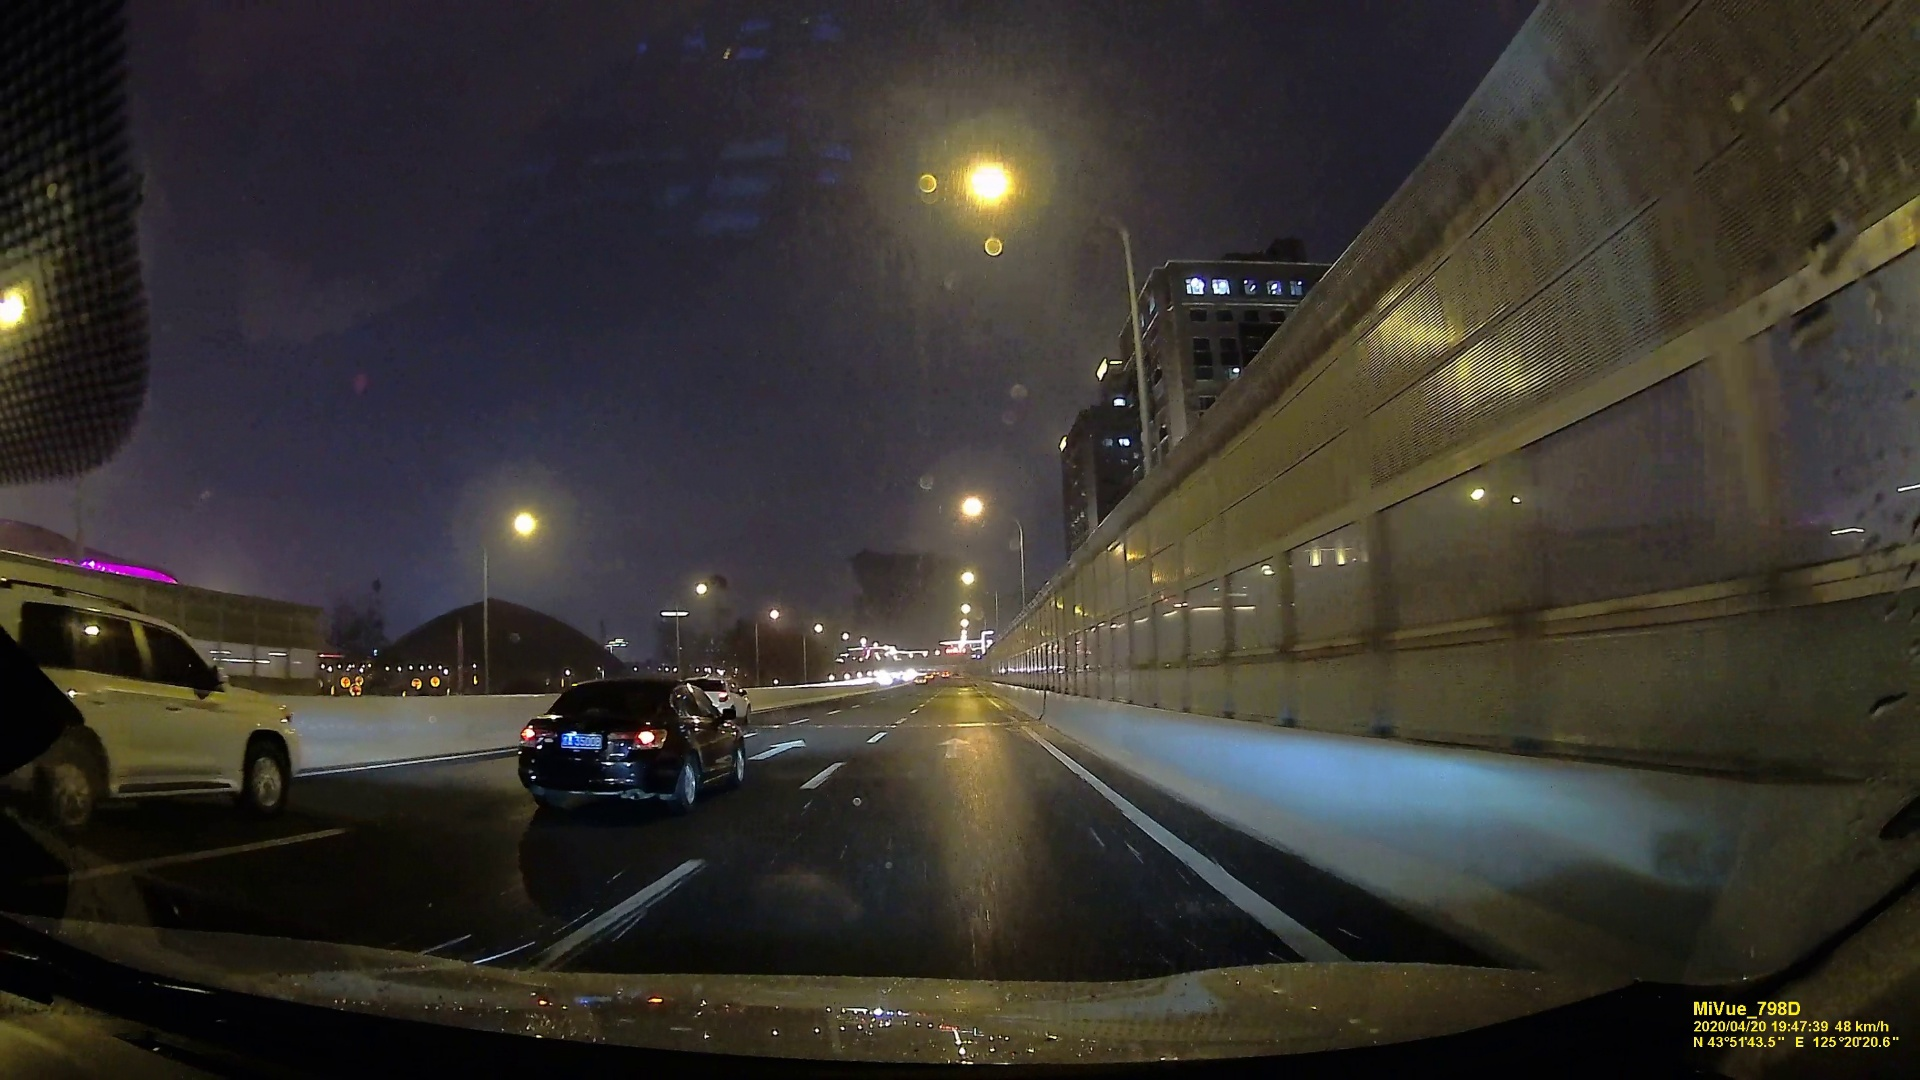minibus: (3, 588, 299, 808)
vehicle: (514, 678, 744, 814)
